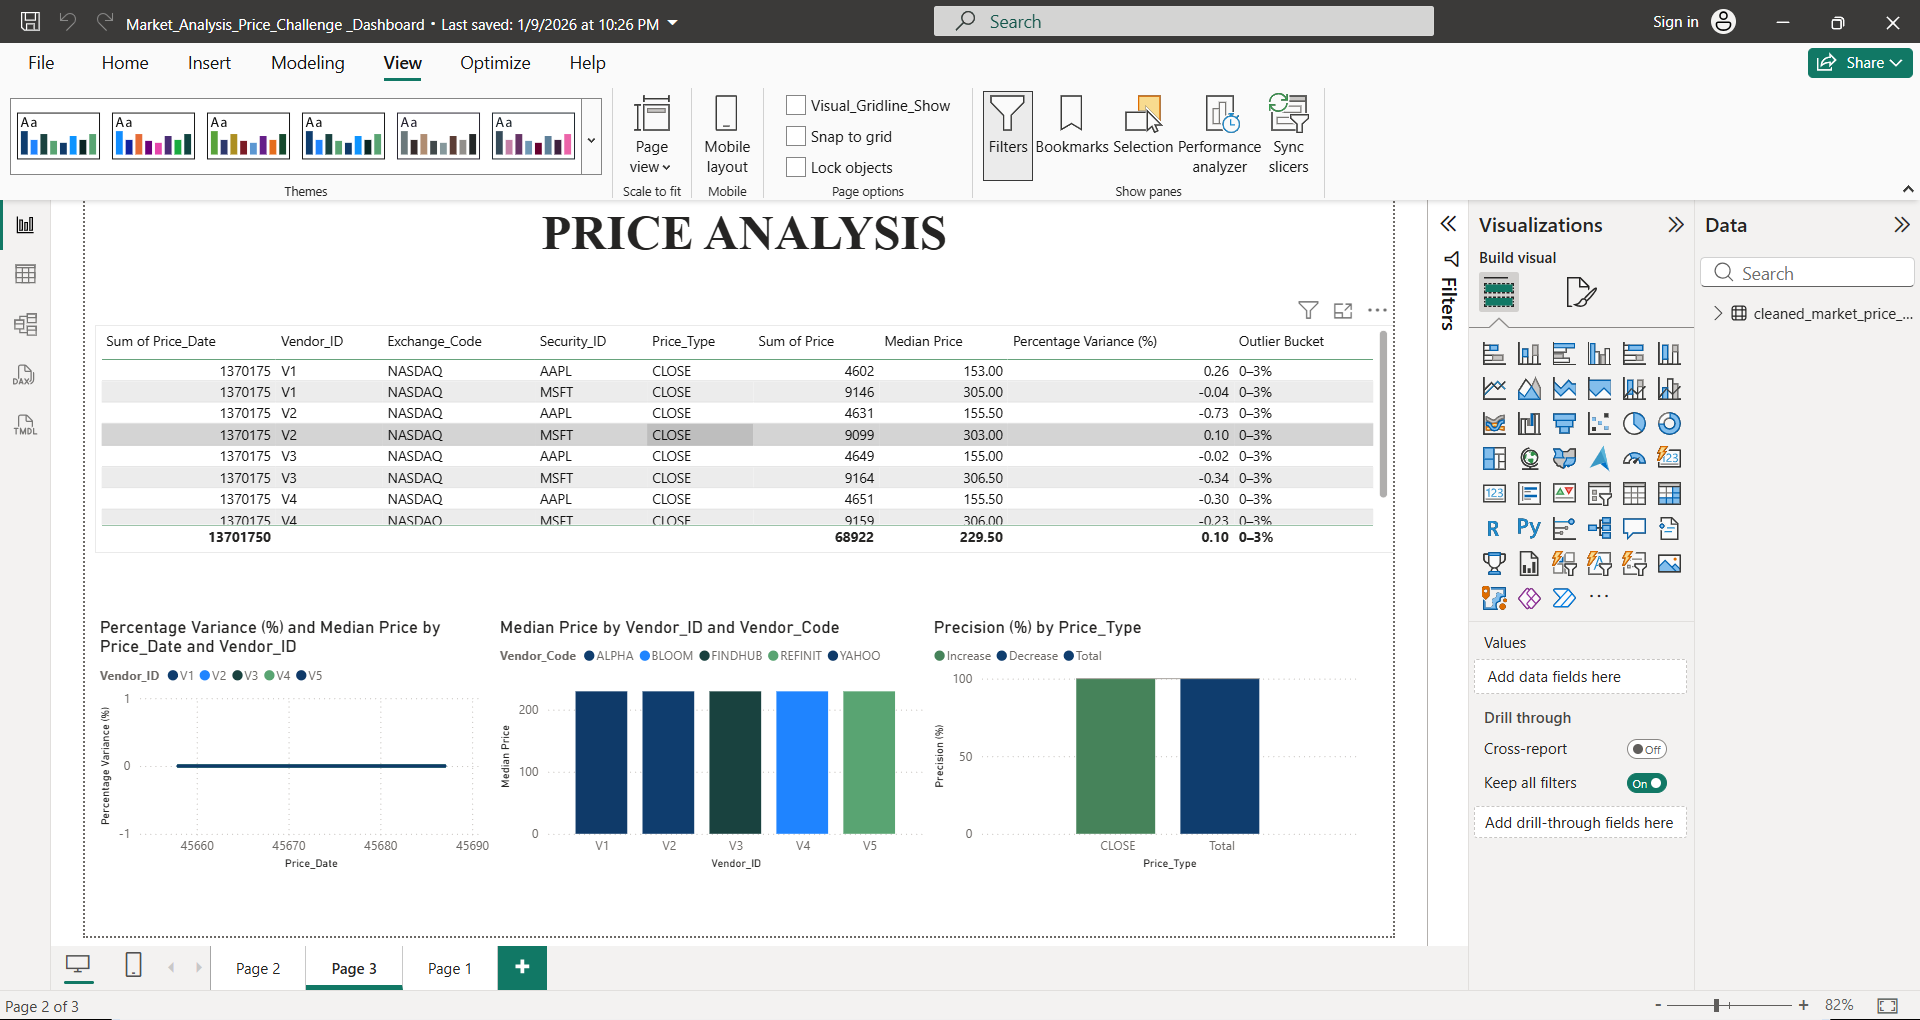

This screenshot's page, from the dashboard's own definition file:
{"tool":"powerbi","page":{"name":"Page 3","canvas":[1280,720],"ordinal":1},"visuals":[{"type":"textbox","box":[10.2,0,1269.9,109.1],"z":0},{"type":"tableEx","fields":{"Values":["Sum(cleaned_market_price_data.Price_Date)","cleaned_market_price_data.Vendor_ID","cleaned_market_price_data.Exchange_Code","cleaned_market_price_data.Security_ID","cleaned_market_price_data.Price_Type","Sum(cleaned_market_price_data.Price)","cleaned_market_price_data.Median Price","cleaned_market_price_data.Percentage Variance (%)","cleaned_market_price_data.Outlier Bucket"]},"box":[10.2,122.7,1269.9,221.6],"z":1000},{"type":"lineChart","fields":{"Category":["cleaned_market_price_data.Price_Date"],"Y":["cleaned_market_price_data.Percentage Variance (%)"],"Series":["cleaned_market_price_data.Vendor_ID"]},"box":[9.5,407.1,391.2,252.8],"z":2000},{"type":"columnChart","fields":{"Y":["cleaned_market_price_data.Median Price"],"Category":["cleaned_market_price_data.Vendor_ID"],"Series":["cleaned_market_price_data.Vendor_Code"]},"box":[400.7,407.1,424.6,252.8],"z":2001},{"type":"waterfallChart","fields":{"Y":["cleaned_market_price_data.Precision (%)"],"Category":["cleaned_market_price_data.Price_Type"]},"box":[825.3,407.1,424.6,252.8],"z":2002}]}

Visuals, with their boxes on the page's 1280x720 design canvas (x1, y1, x2, y2). These are canvas units, not pixel positions in the 1920x1020 screenshot, which may show the page scaled, cropped or inside an application window:
textbox: <region>10, 0, 1280, 109</region>
tableEx - Sum(cleaned_market_price_data.Price_Date) x cleaned_market_price_data.Vendor_ID: <region>10, 123, 1280, 344</region>
lineChart - cleaned_market_price_data.Price_Date x cleaned_market_price_data.Percentage Variance (%): <region>10, 407, 401, 660</region>
columnChart - cleaned_market_price_data.Median Price x cleaned_market_price_data.Vendor_ID: <region>401, 407, 825, 660</region>
waterfallChart - cleaned_market_price_data.Precision (%) x cleaned_market_price_data.Price_Type: <region>825, 407, 1250, 660</region>
